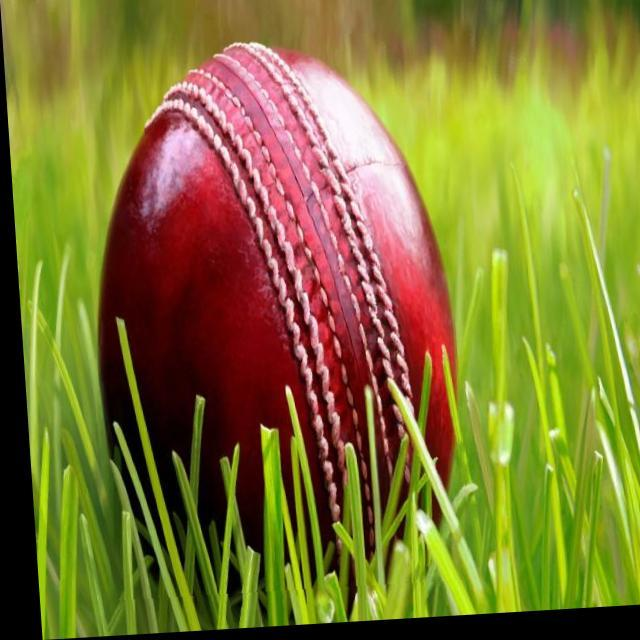cricket ball: (94, 43, 452, 597)
